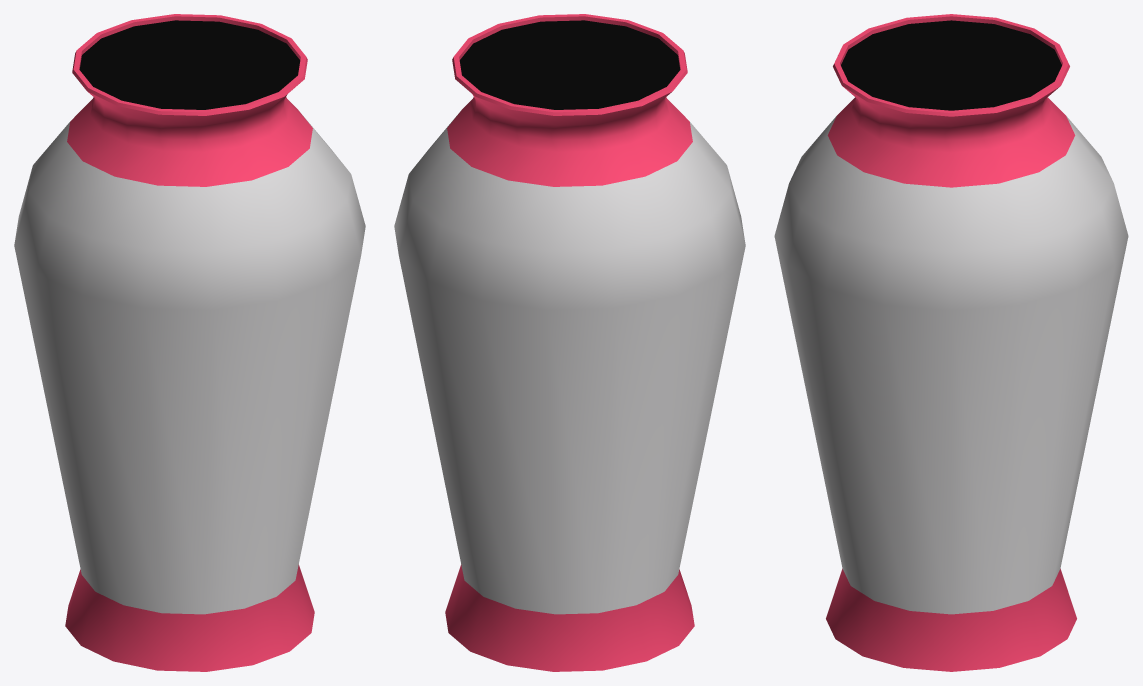
Rendered from Vase.fbx.
3 renders of one model, left to right at view 1: azimuth 30°, elevation 25°; view 2: azimuth 150°, elevation 25°; view 3: azimuth 270°, elevation 25°, orthographic.
Parts seen in each view (by area): view 1: Cylinder; view 2: Cylinder; view 3: Cylinder.
Part boxes in pixels (x1,y1,x2,y2): Cylinder: [14, 14, 365, 671]; Cylinder: [394, 14, 745, 671]; Cylinder: [774, 14, 1128, 671].
Size of the model in its own units: 253 by 438 by 253.
